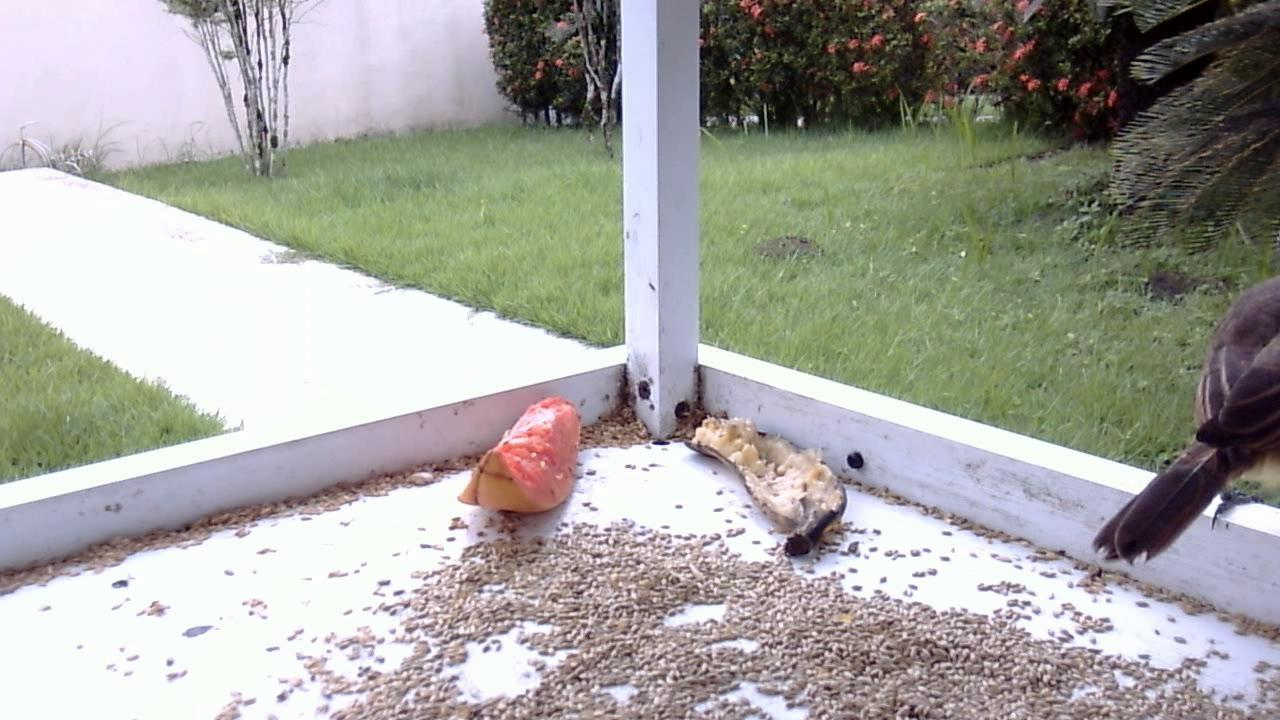bem_te_vi: (1088, 274, 1277, 572)
